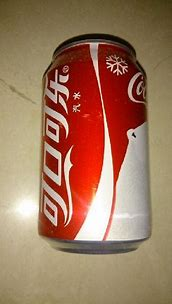Coke: (37, 33, 154, 258)
